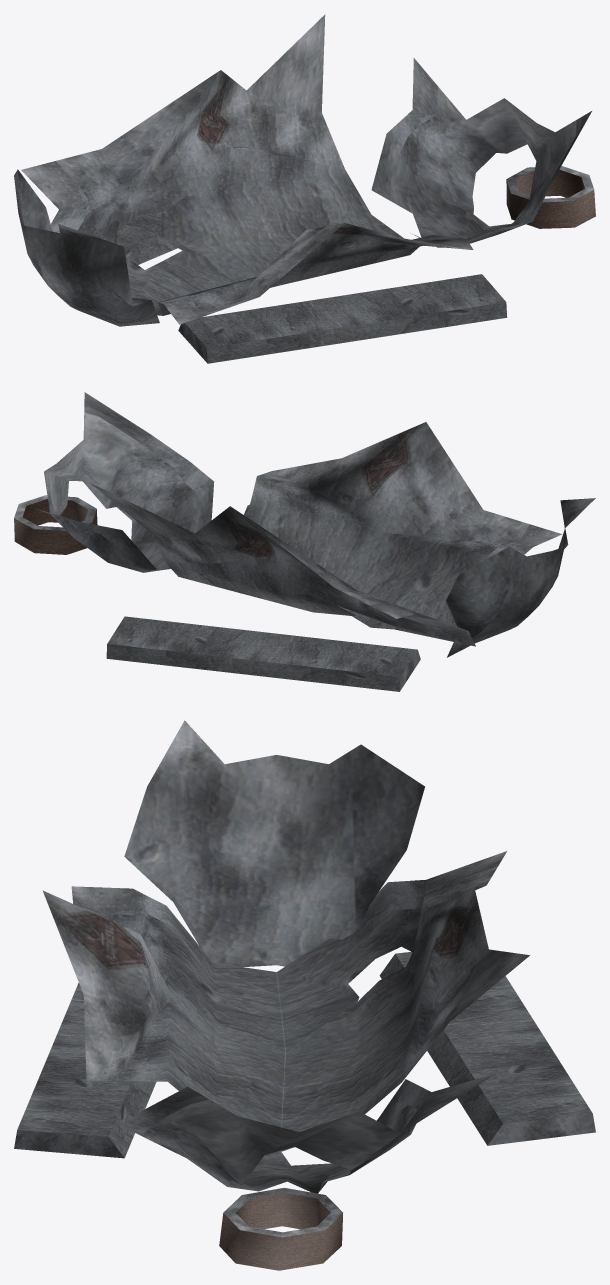
File: OTANK01X.glb
3 renders of one model, top to bottom at view 1: azimuth 30°, elevation 25°; view 2: azimuth 150°, elevation 25°; view 3: azimuth 270°, elevation 25°, orthographic. The views are drawn at different scales.
Parts seen in each view (by area): view 1: _OTANK01X; view 2: _OTANK01X; view 3: _OTANK01X.
Part boxes in pixels (<box>): _OTANK01X: <box>14,14,595,363</box>; _OTANK01X: <box>14,392,595,691</box>; _OTANK01X: <box>14,720,595,1270</box>.
Bounding box in the file's own units: 7.9 × 2.16 × 5.34.
3 materials, 3 textured.
